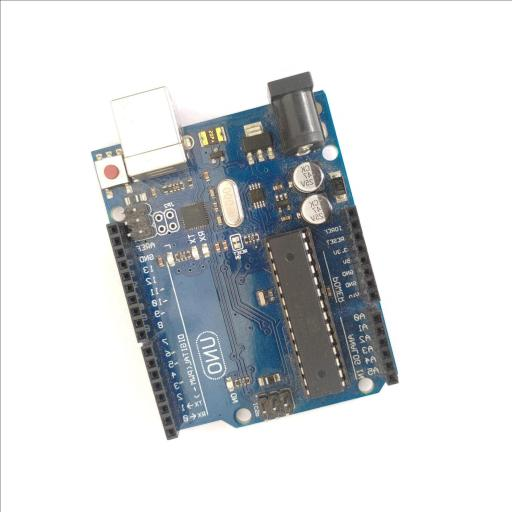Arduino Uno R3: (90, 70, 400, 440)
